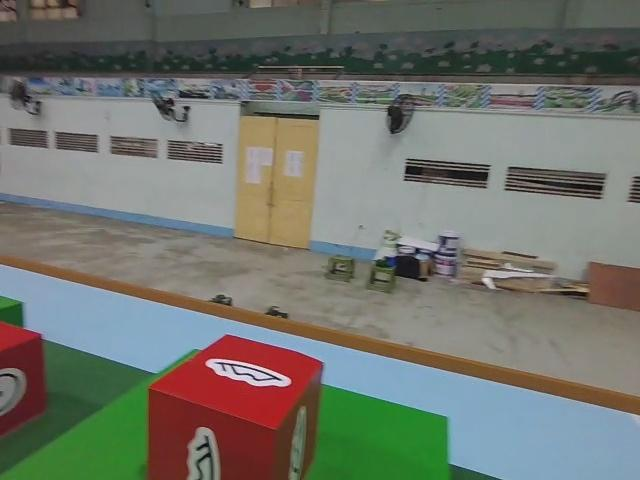R2 Real: (146, 331, 326, 480), (0, 319, 49, 438)
